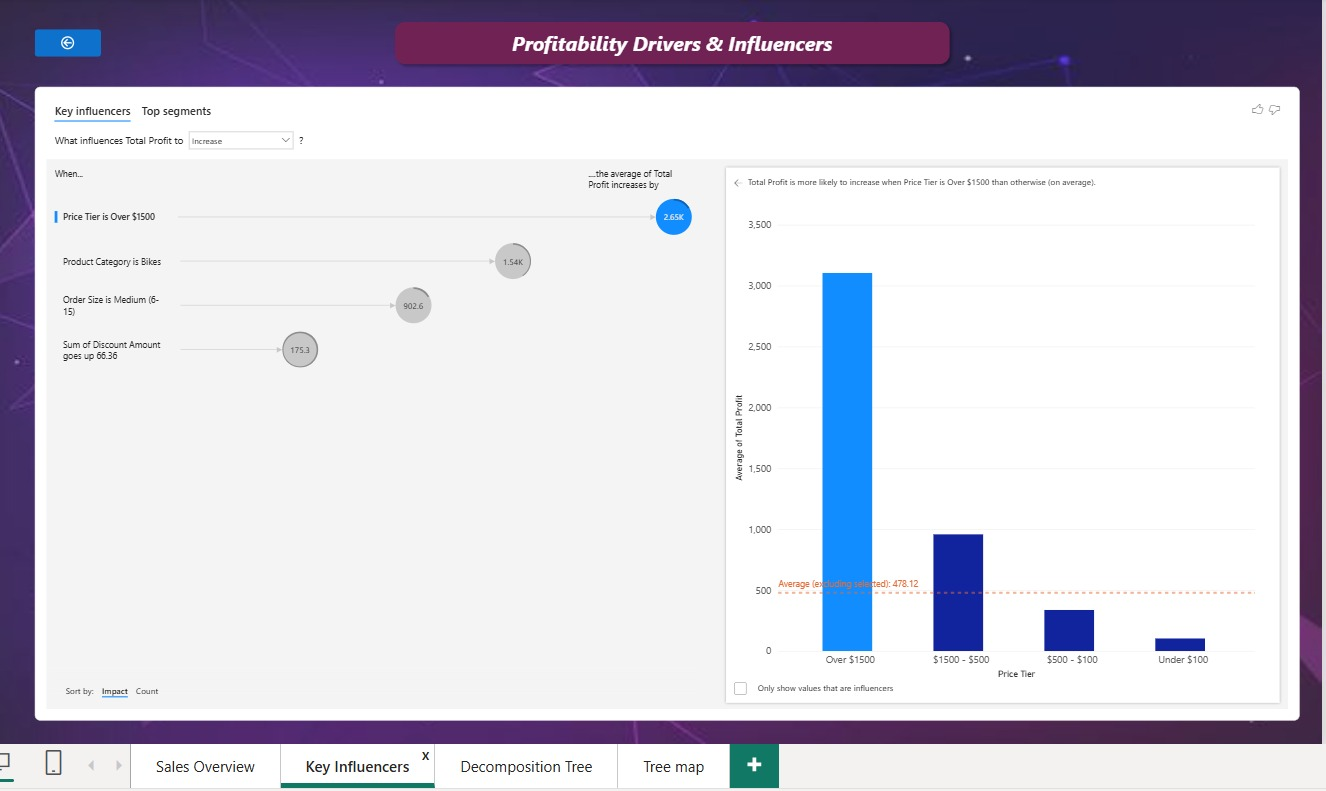

This screenshot's page, from the dashboard's own definition file:
{"tool":"powerbi","page":{"name":"Key Influencers","canvas":[1920,1080],"ordinal":1},"visuals":[{"type":"keyDriversVisual","title":"Profitability Drivers & Influencers","fields":{"Target":["Sales.Total Profit"],"ExplainBy":["Sales.Order Size","Product.Price Tier","Product.Product Category","Sum(Sales.Discount Amount)"]},"box":[56.1,128.5,1831.4,917.5],"z":0},{"type":"actionButton","box":[56.1,45.2,95.9,39.8],"z":1000},{"type":"shape","box":[568.2,25.3,821.6,79.6],"z":2000}]}

Visuals, with their boxes on the page's 1920x1080 design canvas (x1, y1, x2, y2). These are canvas units, not pixel positions in the 1326x791 screenshot, which may show the page scaled, cropped or inside an application window:
"Profitability Drivers & Influencers" keyDriversVisual: 56/128/1888/1046
actionButton: 56/45/152/85
shape: 568/25/1390/105
